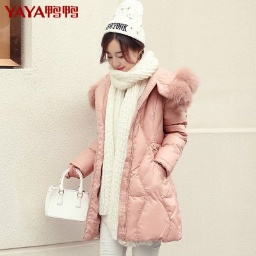face: (98, 24, 149, 71)
